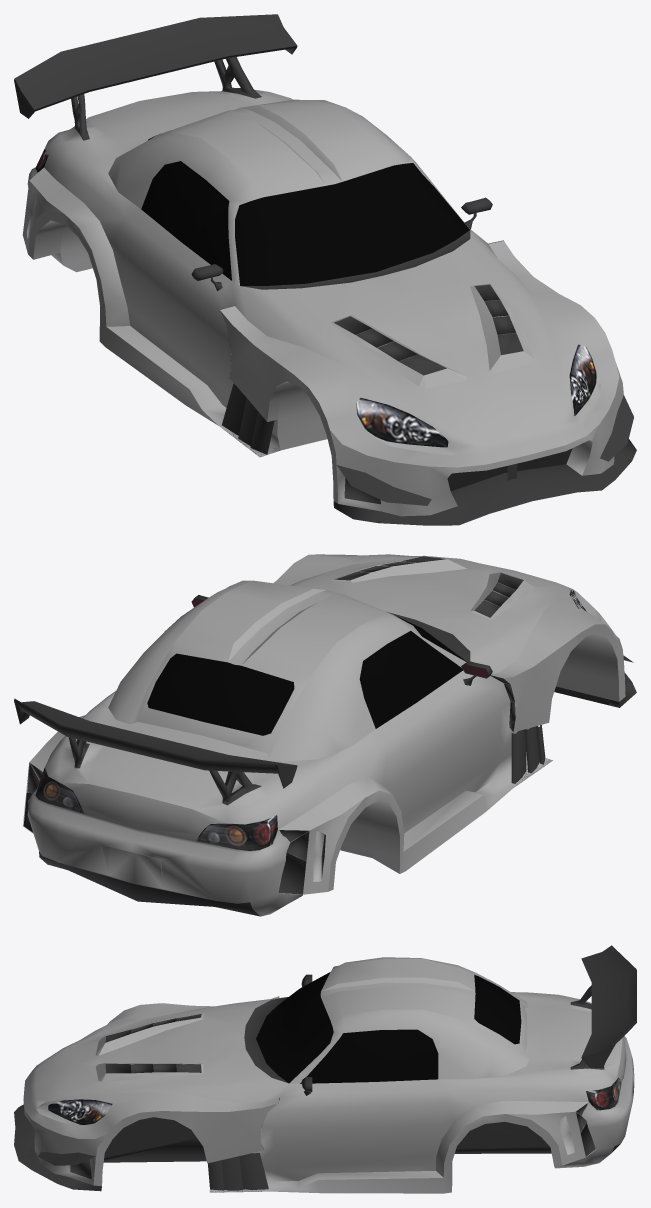
File: JapanSmallCoupeGT.fbx
3 views of the same model, one above another, from view 1: azimuth 30°, elevation 25°; view 2: azimuth 150°, elevation 25°; view 3: azimuth 270°, elevation 25° (orthographic). The views are drawn at different scales.
Parts seen in each view (by area): view 1: Plane; view 2: Plane; view 3: Plane.
Part boxes in pixels (<box>): Plane: <box>14,14,636,525</box>; Plane: <box>14,554,636,916</box>; Plane: <box>14,945,636,1193</box>.
Size of the model in its own units: 125 by 80.6 by 291.
Materials: 3 (2 with a texture image).
